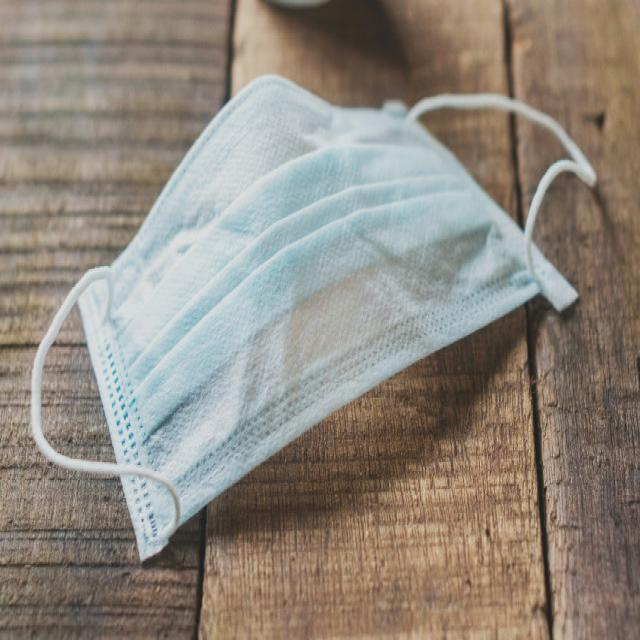non-organic waste: (35, 76, 587, 552)
